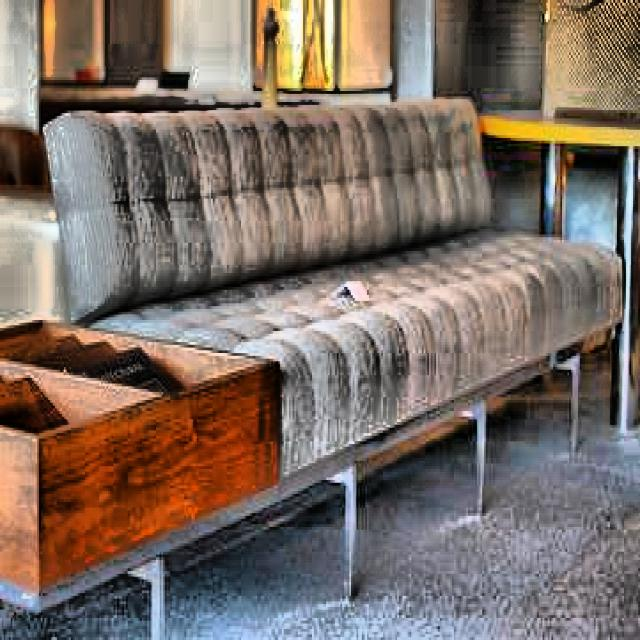sofa: (41, 99, 628, 502)
